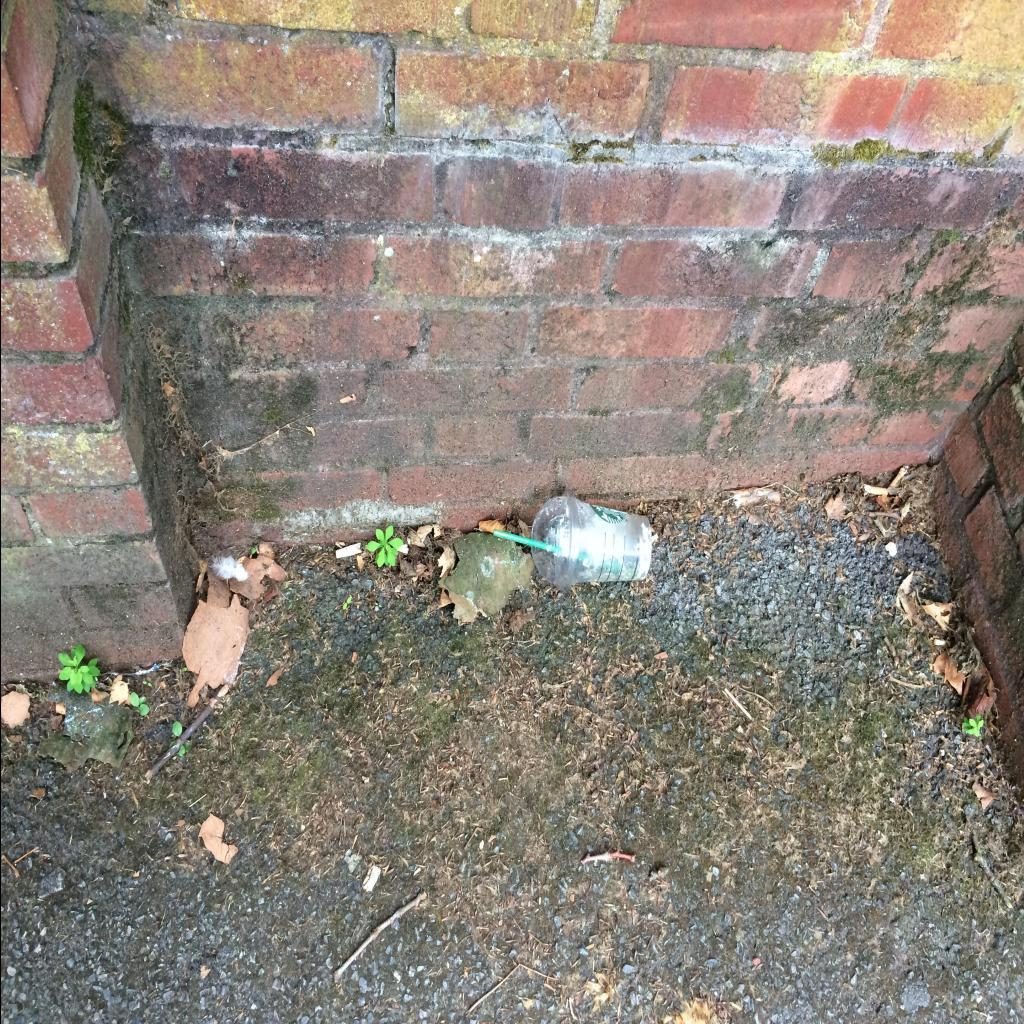Cigarette: (888, 465, 908, 489), (334, 543, 360, 559), (864, 486, 886, 494), (933, 640, 945, 646)
Disposable plastic cup: (554, 496, 650, 588)
Plastic lid: (530, 496, 574, 587)
Plastic straw: (492, 528, 554, 552)
